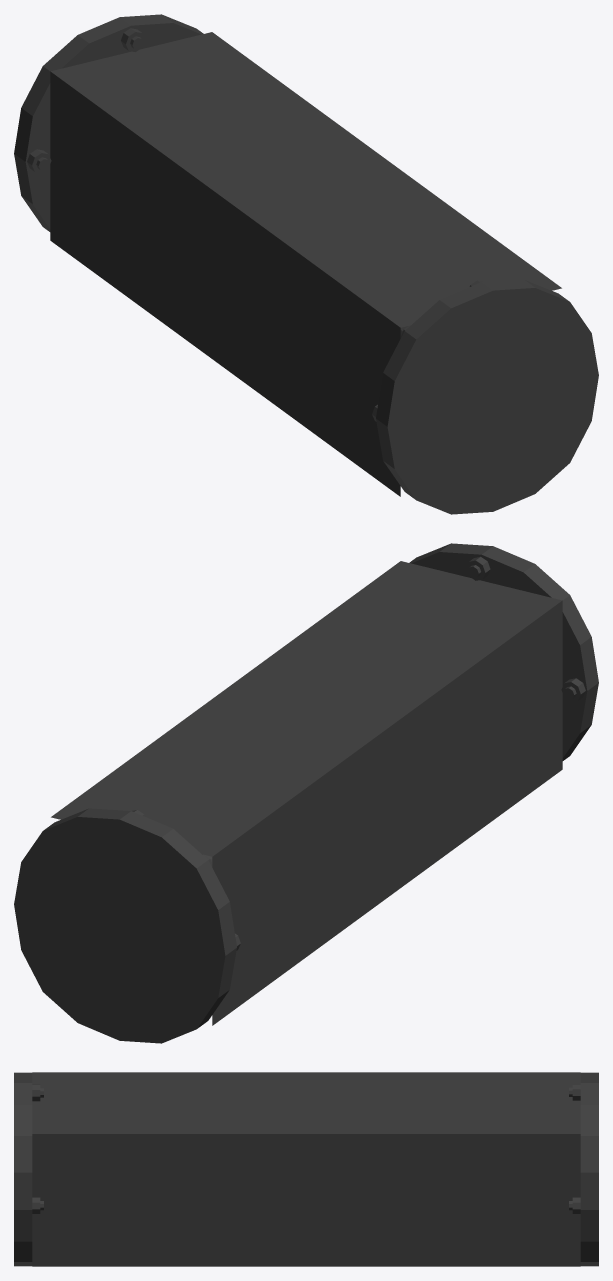
3 views of the same model, one above another, from view 1: azimuth 30°, elevation 25°; view 2: azimuth 150°, elevation 25°; view 3: azimuth 270°, elevation 25° (orthographic). The views are drawn at different scales.
Parts seen in each view (by area): view 1: world; view 2: world; view 3: world.
Boxes of the visible parts, x1,y1,x2,y2 form: world: (14, 14, 598, 514); world: (14, 543, 598, 1043); world: (14, 1072, 598, 1266).
Bounding box in the file's own units: 0.6536 × 0.6536 × 2.
Materials: 1 (1 with a texture image).
